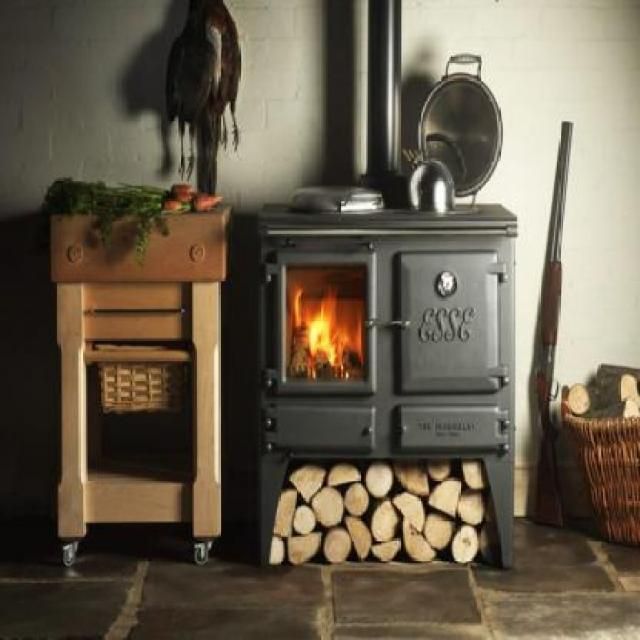Fire: (289, 284, 357, 376)
